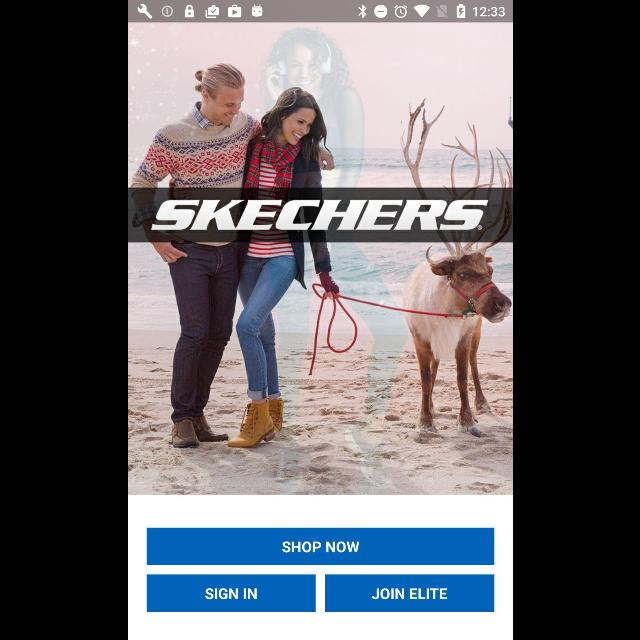backgroundimage: (128, 23, 512, 495)
textbutton: (146, 528, 494, 566), (324, 574, 494, 612), (147, 574, 316, 612)
uppertaskbar: (128, 1, 512, 23)
